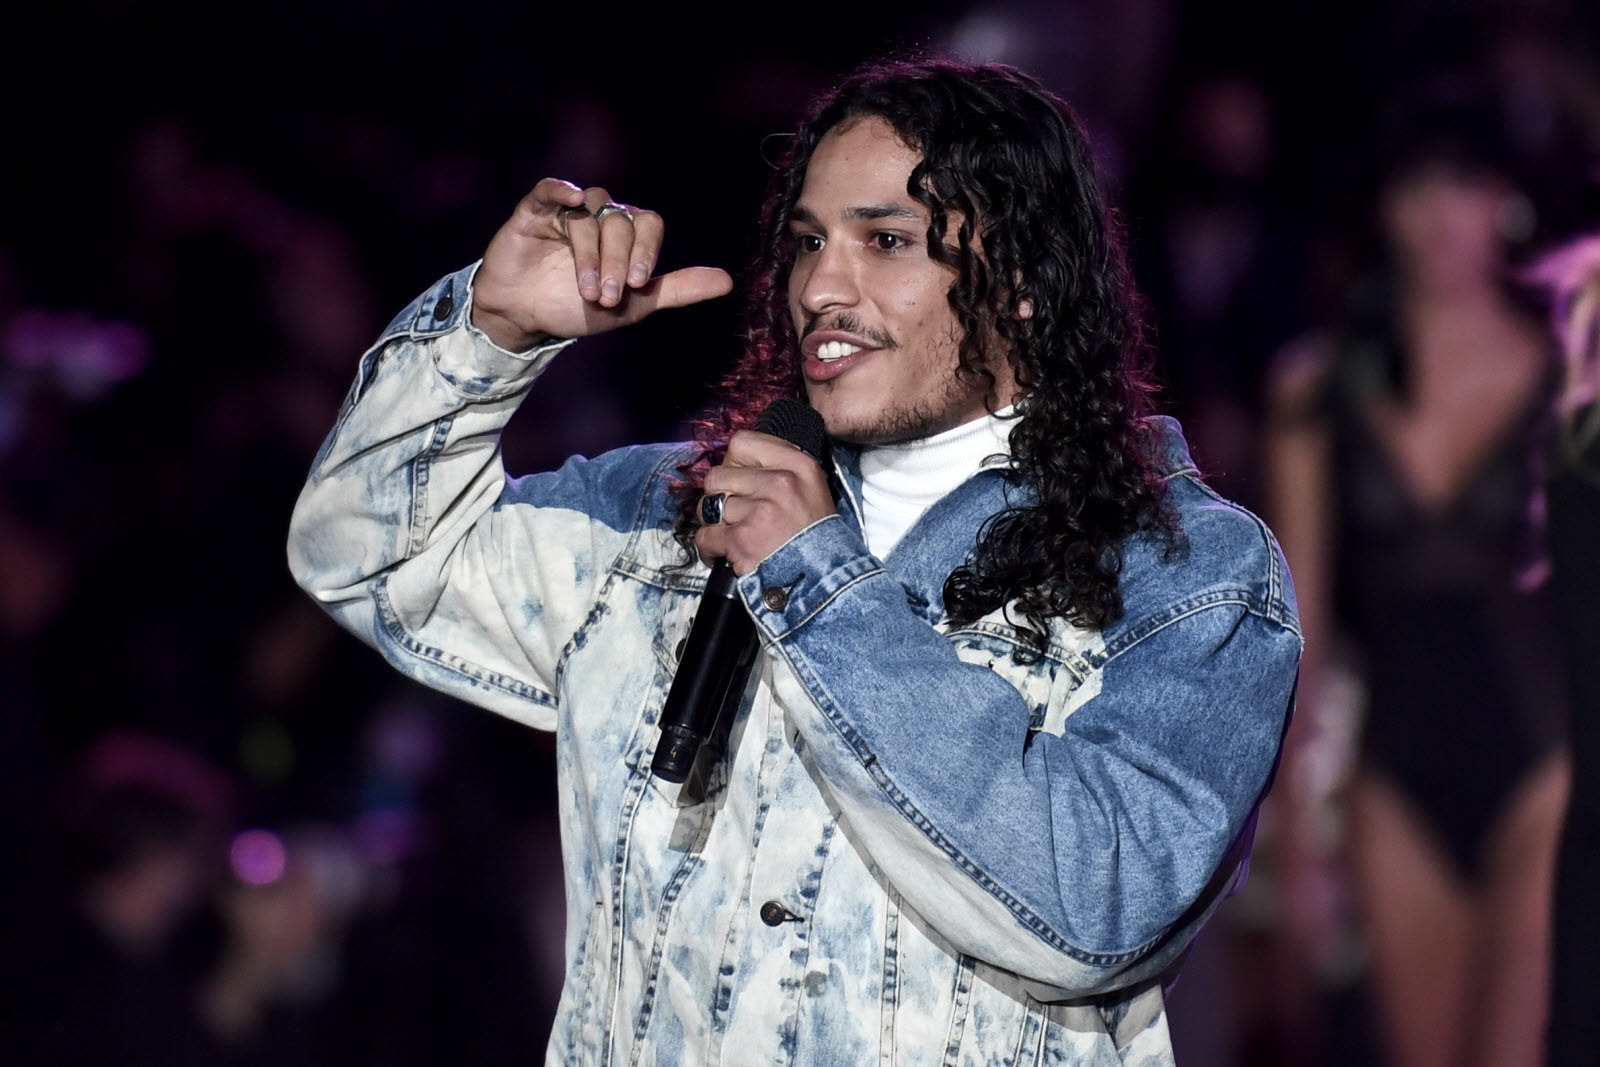without_mask: (786, 196, 985, 403)
